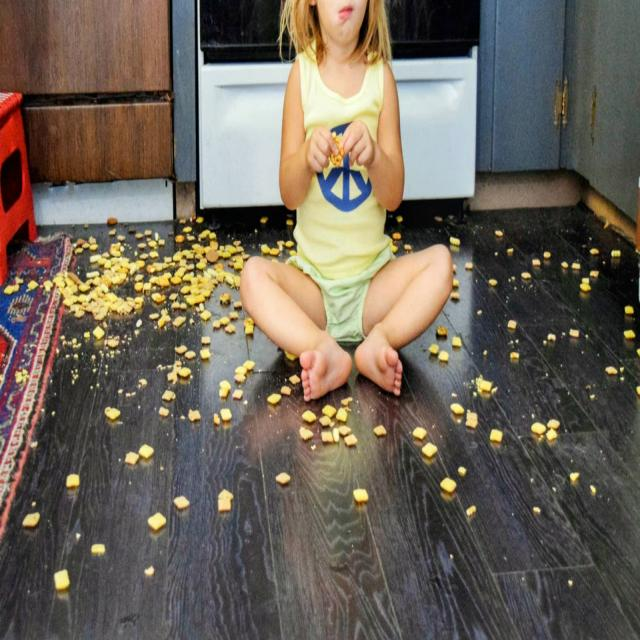child: (237, 0, 452, 403)
